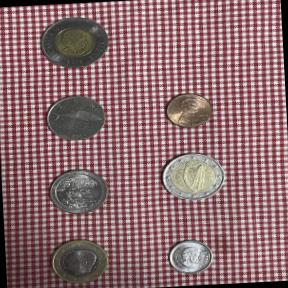coin: (32, 10, 119, 76), (38, 84, 115, 148), (154, 147, 232, 207), (41, 162, 118, 222), (43, 232, 119, 288), (162, 86, 220, 131), (162, 235, 218, 280)
